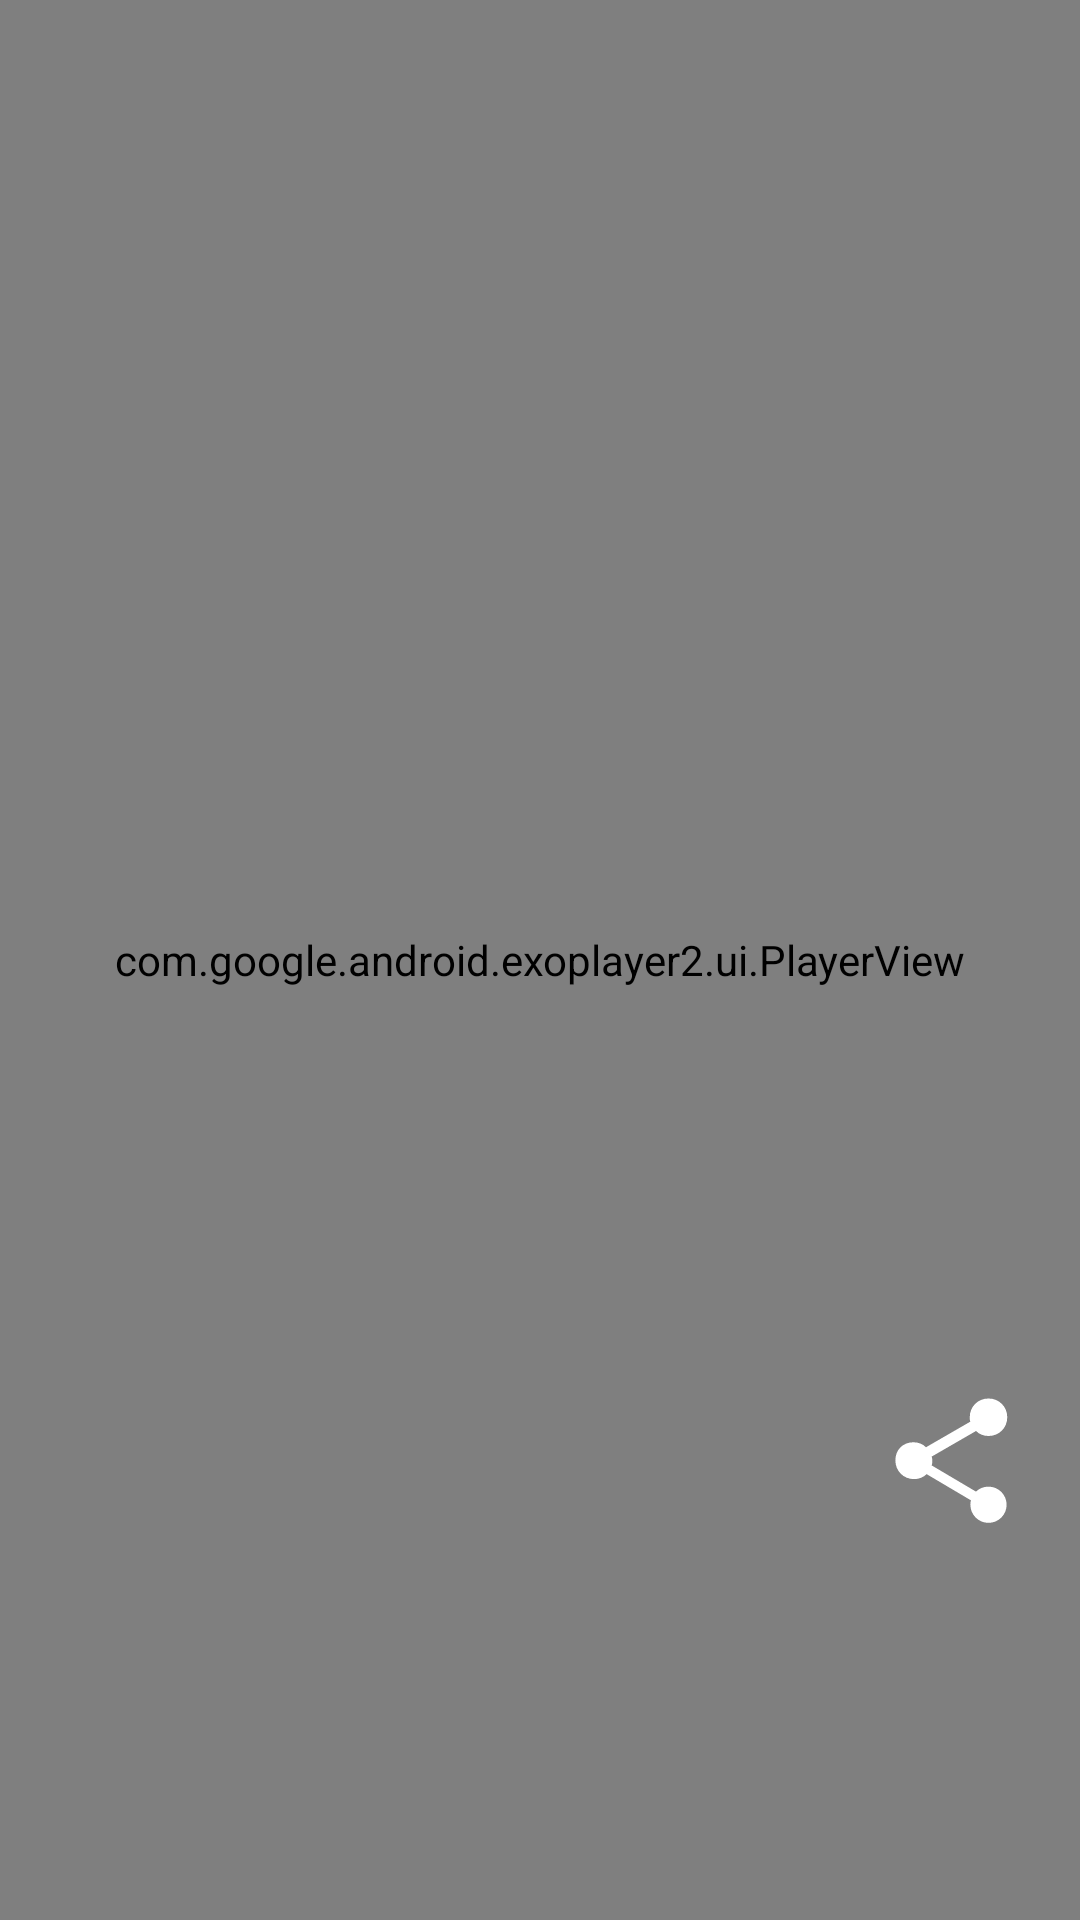

Screen size 1080 x 1920. Icon name, then its box in pixels as (x1, y1, x2, y2):
share: (895, 1398, 1008, 1523)
